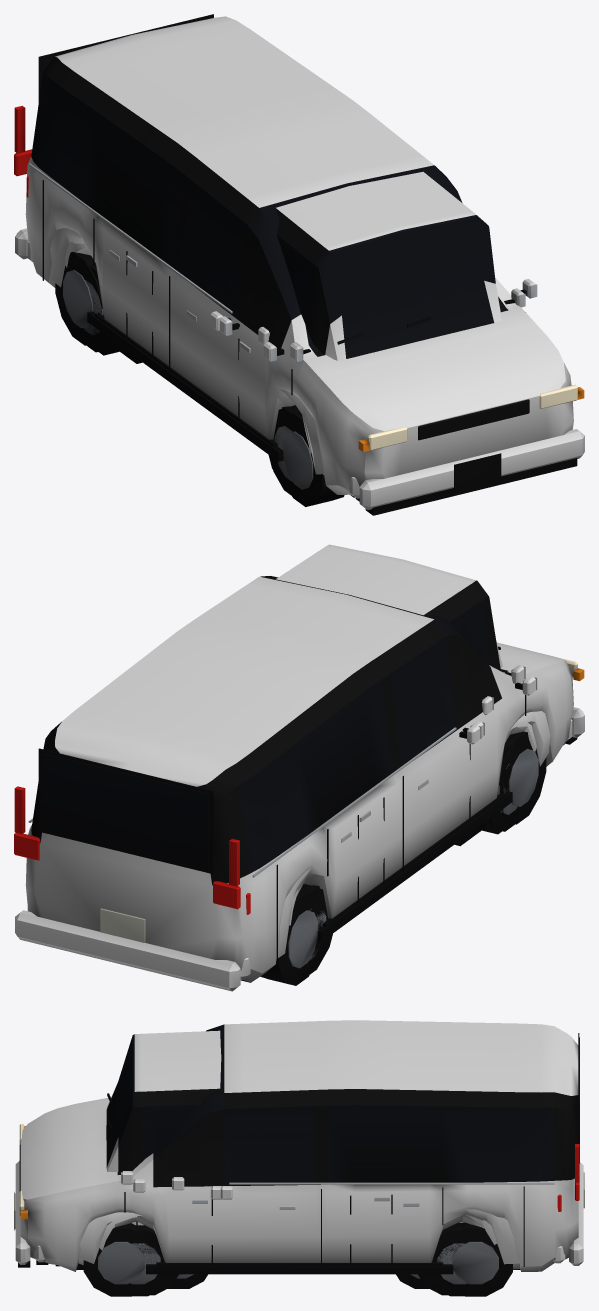
Rendered from prop.town.car.glb.
The picture shows the model from 3 angles, top to bottom: view 1: azimuth 30°, elevation 25°; view 2: azimuth 150°, elevation 25°; view 3: azimuth 270°, elevation 25°; orthographic projection. The views are drawn at different scales.
Visible parts, largest first — view 1: v2_LOD0, v3_LOD0, v0_LOD0, v5_LOD0; view 2: v2_LOD0, v3_LOD0, v0_LOD0, v5_LOD0; view 3: v2_LOD0, v3_LOD0, v0_LOD0, v5_LOD0.
Part boxes in pixels (x1=…): v2_LOD0: x1=14, y1=14, x2=584, y2=515; v3_LOD0: x1=123, y1=171, x2=525, y2=363; v0_LOD0: x1=26, y1=176, x2=359, y2=501; v5_LOD0: x1=65, y1=241, x2=354, y2=497; v2_LOD0: x1=14, y1=576, x2=584, y2=991; v3_LOD0: x1=276, y1=544, x2=525, y2=846; v0_LOD0: x1=27, y1=711, x2=572, y2=979; v5_LOD0: x1=289, y1=721, x2=536, y2=959; v2_LOD0: x1=14, y1=1020, x2=584, y2=1296; v3_LOD0: x1=106, y1=1030, x2=461, y2=1288; v0_LOD0: x1=34, y1=1186, x2=565, y2=1296; v5_LOD0: x1=55, y1=1186, x2=496, y2=1295.
Bounding box in the file's own units: 2.04 × 1.83 × 4.71.
